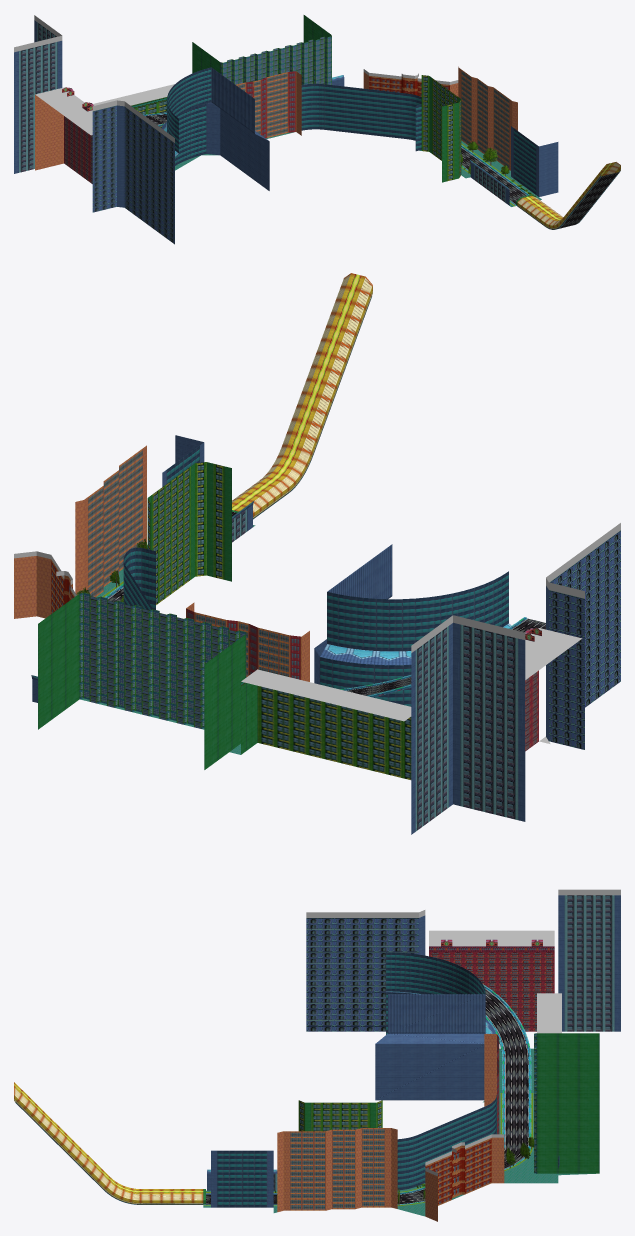
The model's file is City_Course1.obj.
3 renders of one model, top to bottom at view 1: azimuth 30°, elevation 25°; view 2: azimuth 150°, elevation 25°; view 3: azimuth 270°, elevation 25°, orthographic. The views are drawn at different scales.
Parts seen in each view (by area): view 1: obj1, Object_2, obj2; view 2: obj1, Object_2; view 3: obj1, Object_2, obj2.
Part boxes in pixels (<box>): obj1: <box>19,22,536,244</box>; Object_2: <box>14,15,620,229</box>; obj2: <box>461,147,619,229</box>; obj1: <box>56,445,620,831</box>; Object_2: <box>14,273,620,834</box>; obj1: <box>217,895,614,1210</box>; Object_2: <box>14,889,620,1221</box>; obj2: <box>206,1059,529,1204</box>.
Size of the model in its own units: 4090 by 1265 by 4840.
